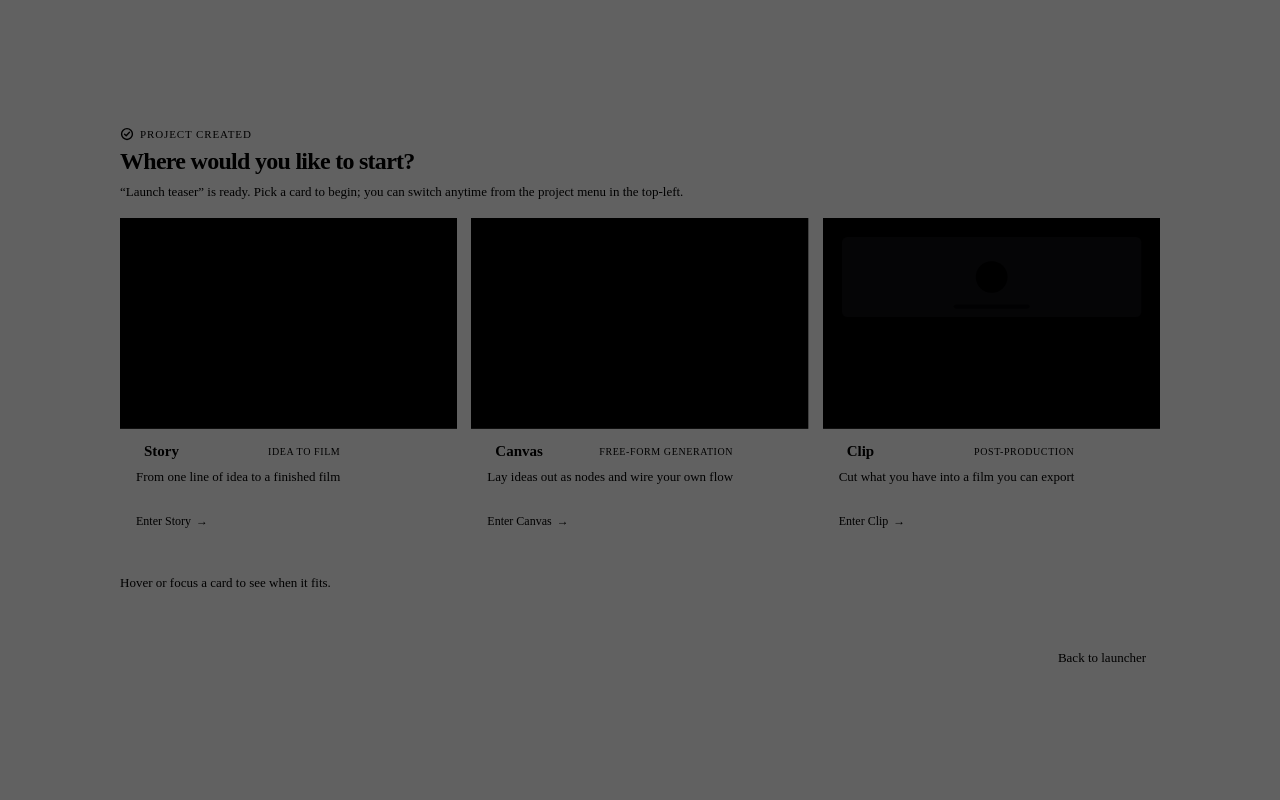
Test: the room a new project opens onto › offers the three rooms by name and keeps their long scenes off the face
Expected: the heading "Where would you like to start?" is shown, [120, 148, 415, 174]
Expected: the button "Story" is shown, [120, 218, 457, 545]
Hover over the button with test id "room-choice-canvas".
mouse_move(640, 382)  # box [471, 218, 809, 545]
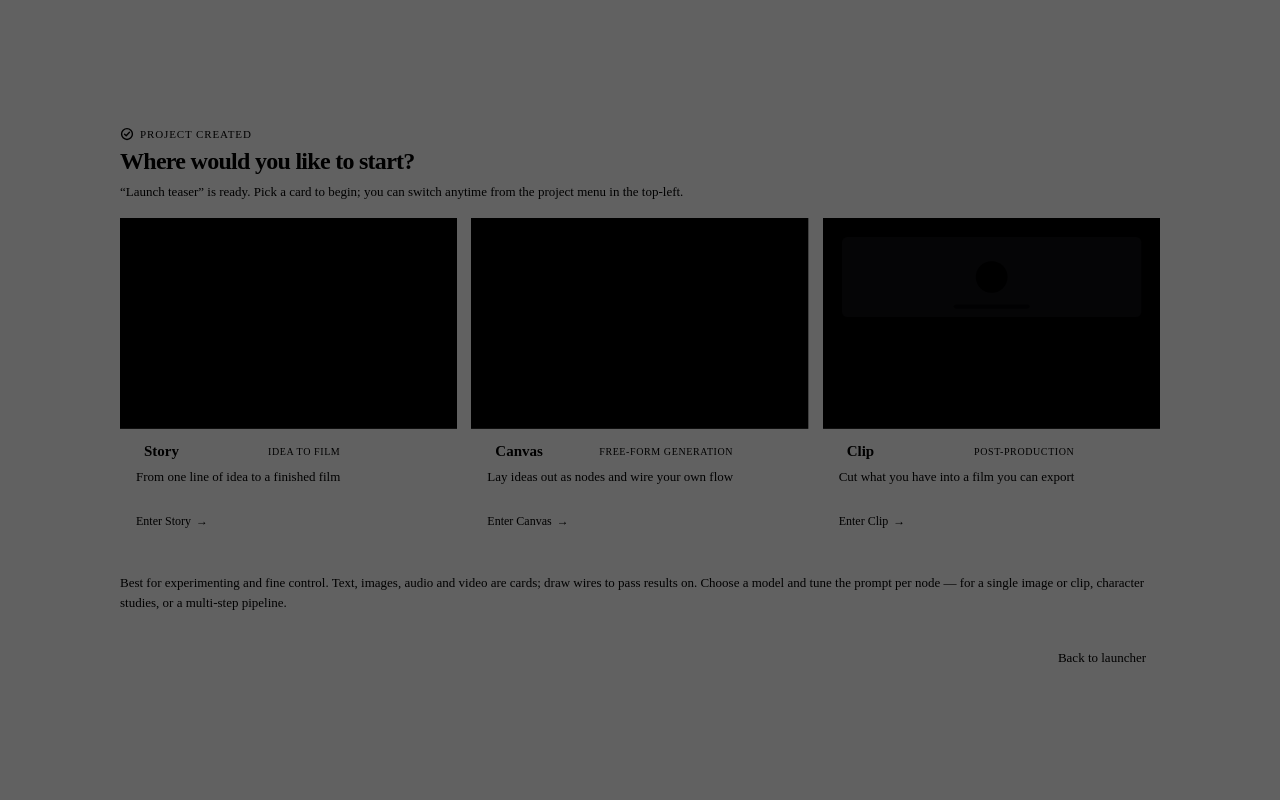
Now the text with test id "room-picker-detail" shows "Best for experimenting and fine control", box [120, 575, 1144, 610]
